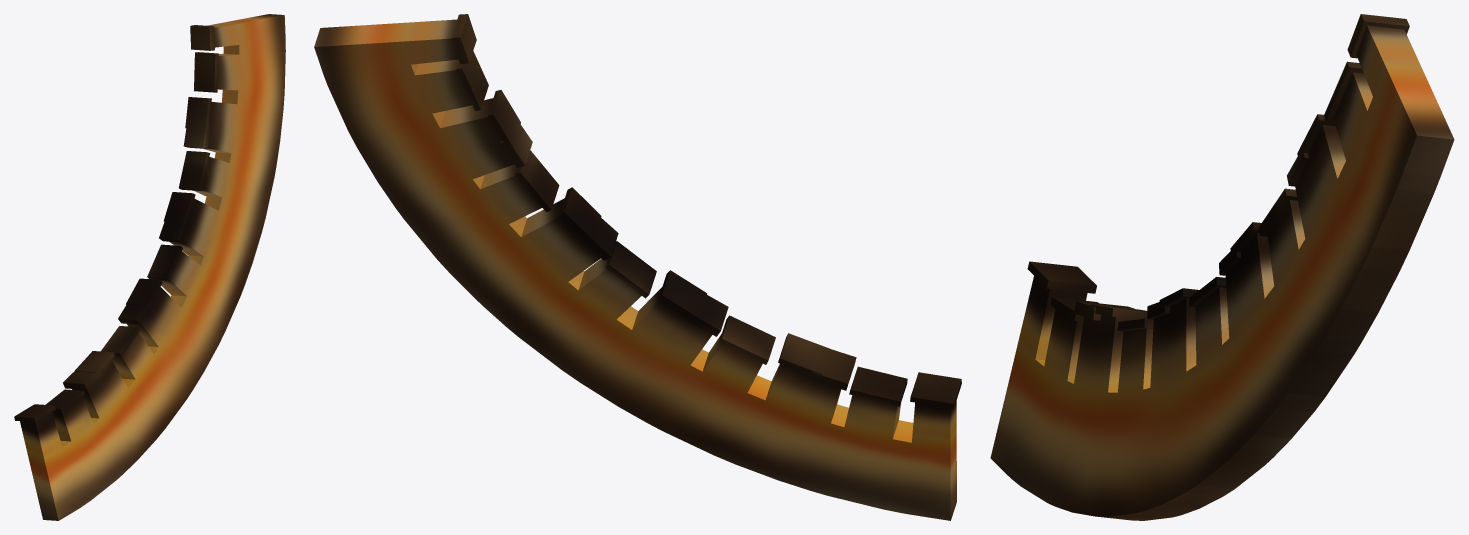
File: Chicharron.fbx
The picture shows the model from 3 angles, left to right: view 1: azimuth 30°, elevation 25°; view 2: azimuth 150°, elevation 25°; view 3: azimuth 270°, elevation 25°; orthographic projection. The views are drawn at different scales.
Parts seen in each view (by area): view 1: chicharon.001; view 2: chicharon.001; view 3: chicharon.001.
Boxes of the visible parts, box(x1,y1,x2,y2) form: chicharon.001: box(14, 14, 285, 520); chicharon.001: box(314, 14, 961, 520); chicharon.001: box(990, 14, 1454, 520).
Bounding box in the file's own units: 85.06 × 82.08 × 50.69.
Materials: 1 (1 with a texture image).
